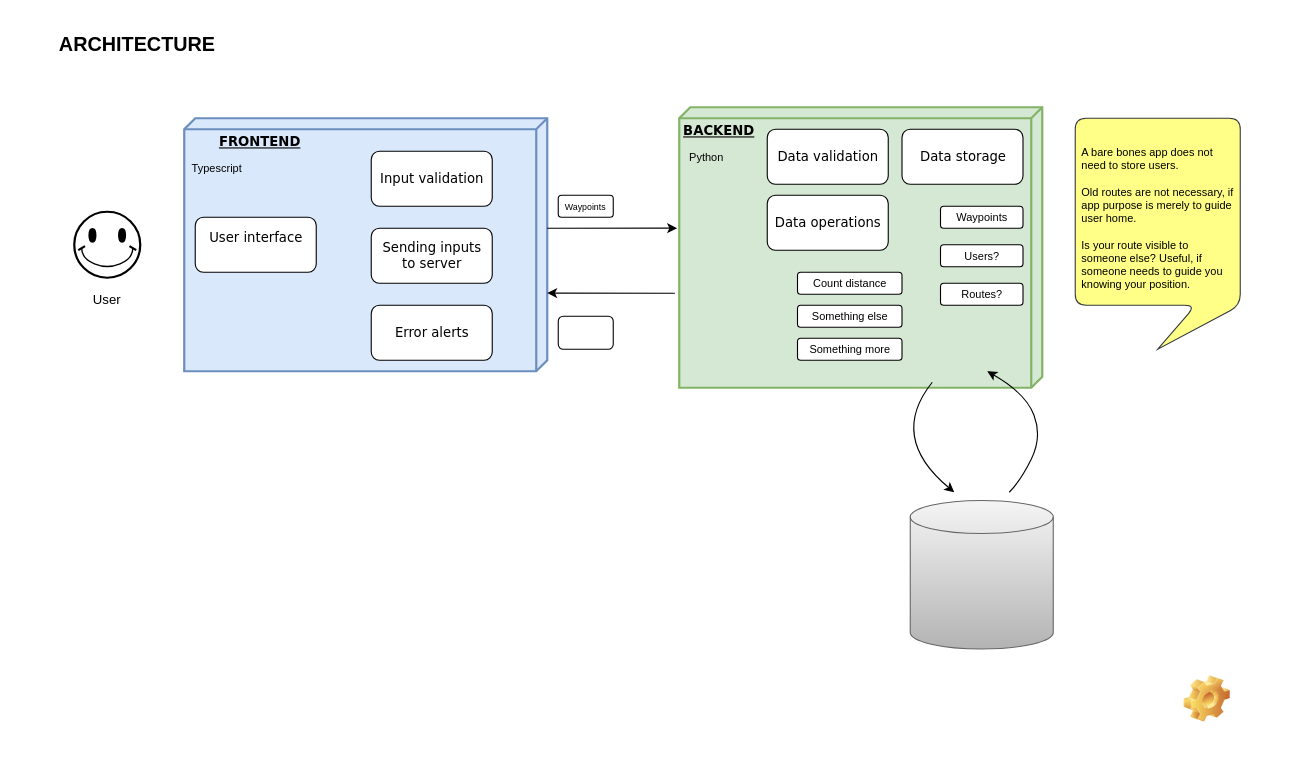
The diagram is 1291 pixels wide and 763 high, and some of its shapes have lost their labels. Here are the shapes that lost their labels. From the top down, the centre of each, then its label:
point 585,332: Distance to starting point
point 981,574: DB PostgreSQL
